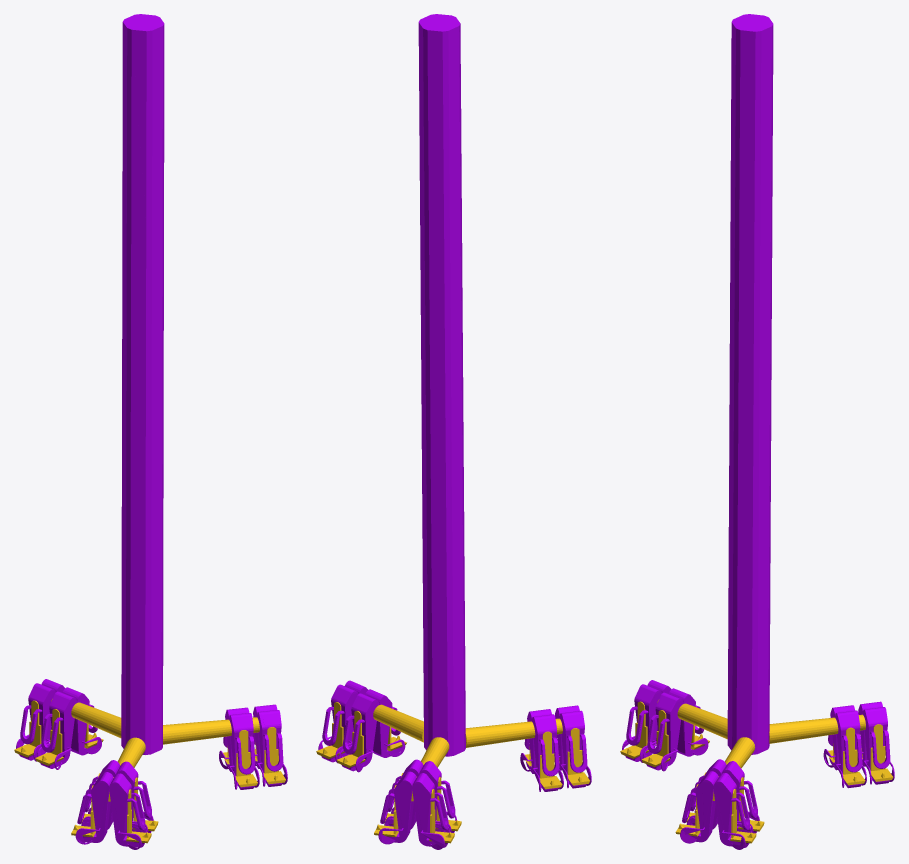
Rendered from sillas.obj.
3 views of the same model, side by side, from view 1: azimuth 30°, elevation 25°; view 2: azimuth 150°, elevation 25°; view 3: azimuth 270°, elevation 25° (orthographic).
Parts seen in each view (by area): view 1: brazo-sillas_Top+Spin.002; view 2: brazo-sillas_Top+Spin.002; view 3: brazo-sillas_Top+Spin.002.
Part boxes in pixels (x1,y1,x2,y2): brazo-sillas_Top+Spin.002: (14, 14, 287, 849); brazo-sillas_Top+Spin.002: (316, 14, 591, 849); brazo-sillas_Top+Spin.002: (620, 14, 894, 849).
Bounding box in the file's own units: 21.16 × 65.67 × 21.26.
Materials: 1 (1 with a texture image).
